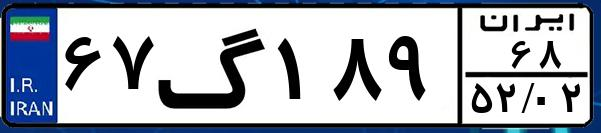0: (535, 70, 560, 125)
1: (270, 28, 330, 110)
2: (560, 70, 590, 125), (495, 70, 520, 125)
5: (470, 70, 495, 125)
6: (57, 26, 110, 100), (508, 27, 537, 80)
7: (110, 28, 156, 98)
8: (330, 28, 385, 110), (537, 27, 568, 80)
9: (385, 28, 445, 110)
گ: (156, 12, 270, 120)
